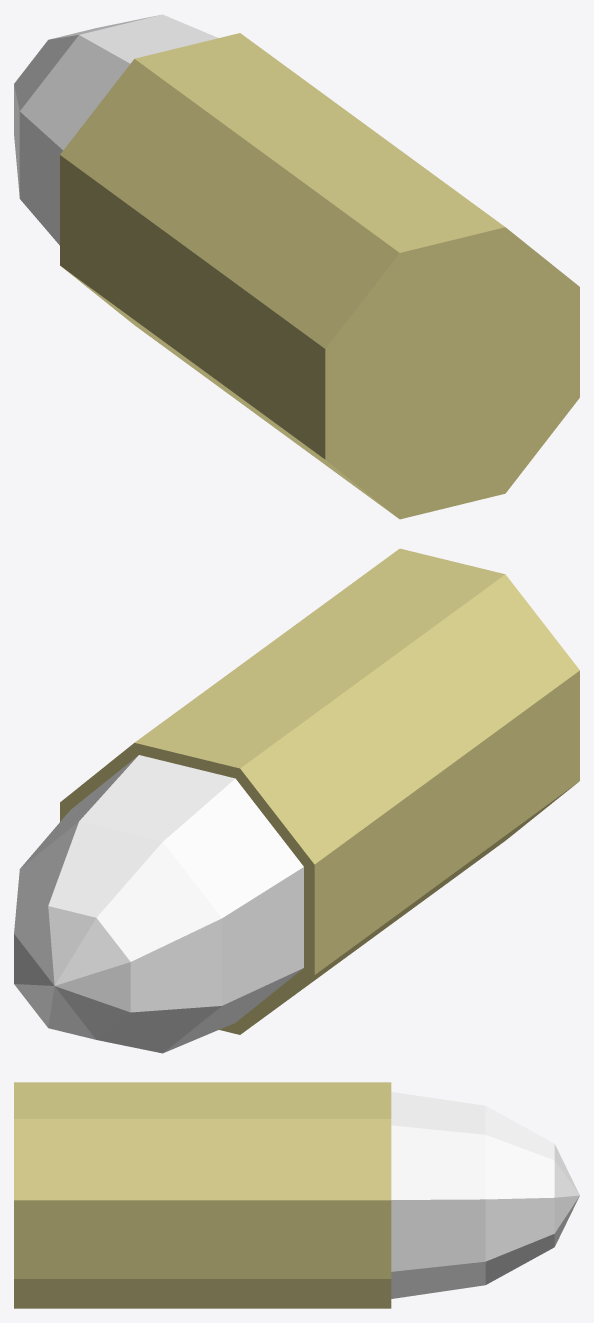
Rendered from ce_ammo_pistol_ap_a.obj.
The picture shows the model from 3 angles, top to bottom: view 1: azimuth 30°, elevation 25°; view 2: azimuth 150°, elevation 25°; view 3: azimuth 270°, elevation 25°; orthographic projection. The views are drawn at different scales.
Visible parts, largest first — view 1: ce_ammo_pistol_ap_a_0, ce_ammo_pistol_ap_a_1, ce_ammo_pistol_ap_a_2; view 2: ce_ammo_pistol_ap_a_0, ce_ammo_pistol_ap_a_1, ce_ammo_pistol_ap_a_2, ce_ammo_pistol_ap_a_3; view 3: ce_ammo_pistol_ap_a_0, ce_ammo_pistol_ap_a_1, ce_ammo_pistol_ap_a_2, ce_ammo_pistol_ap_a_3.
Part boxes in pixels (<box>): ce_ammo_pistol_ap_a_0: <box>60,33,579,519</box>; ce_ammo_pistol_ap_a_1: <box>19,14,218,245</box>; ce_ammo_pistol_ap_a_2: <box>14,15,159,194</box>; ce_ammo_pistol_ap_a_0: <box>60,548,579,1034</box>; ce_ammo_pistol_ap_a_1: <box>21,755,303,1052</box>; ce_ammo_pistol_ap_a_2: <box>14,821,221,1053</box>; ce_ammo_pistol_ap_a_3: <box>14,906,130,1039</box>; ce_ammo_pistol_ap_a_0: <box>14,1082,391,1308</box>; ce_ammo_pistol_ap_a_1: <box>391,1092,485,1298</box>; ce_ammo_pistol_ap_a_2: <box>485,1106,554,1284</box>; ce_ammo_pistol_ap_a_3: <box>554,1144,579,1246</box>.
Bounding box in the file's own units: 0.1108 × 0.1108 × 0.3.
